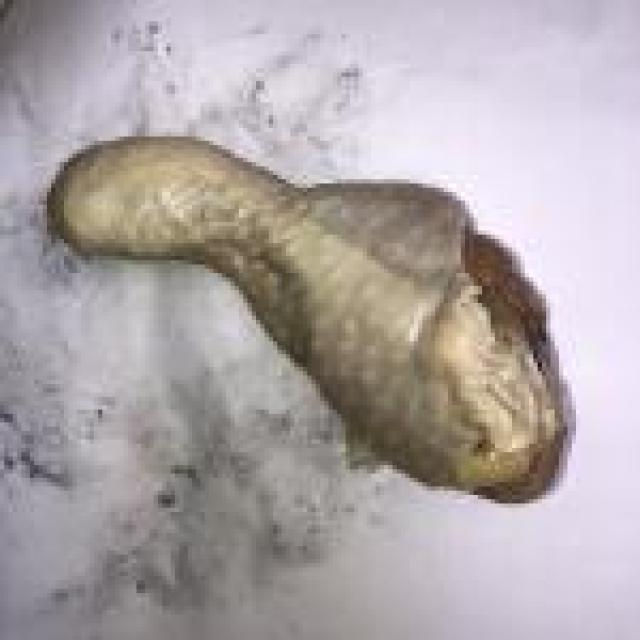leg: (41, 137, 582, 510)
